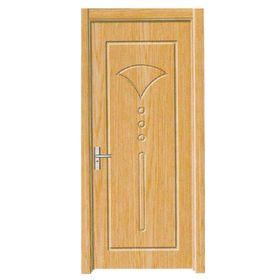door: (82, 7, 202, 271)
